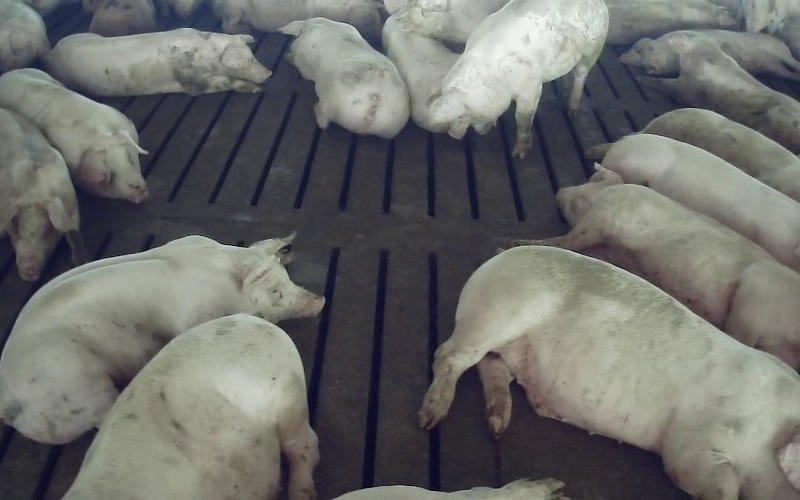pig: (419, 248, 799, 499), (0, 235, 323, 442), (64, 314, 318, 499), (602, 134, 799, 271), (640, 38, 799, 152), (279, 18, 409, 138), (45, 28, 270, 95), (640, 108, 799, 201), (620, 29, 799, 80), (382, 16, 458, 132)
